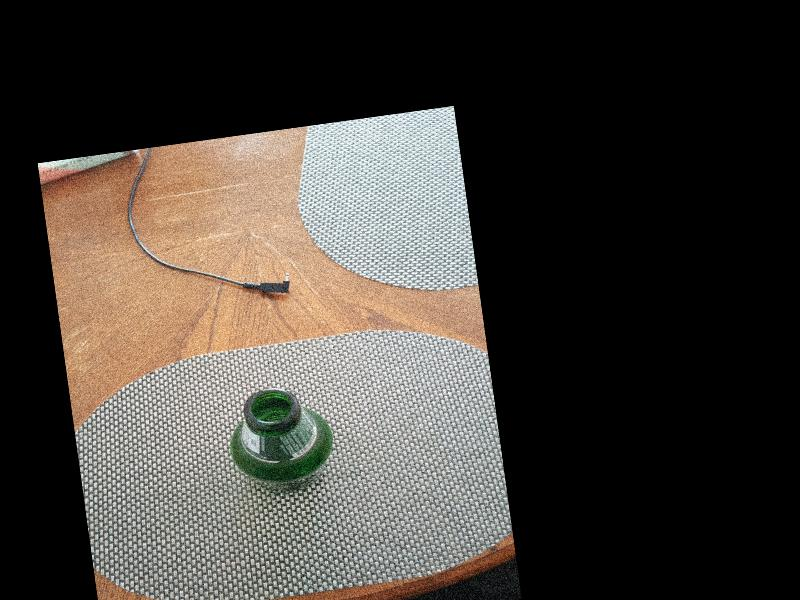Beer: (229, 383, 334, 497)
